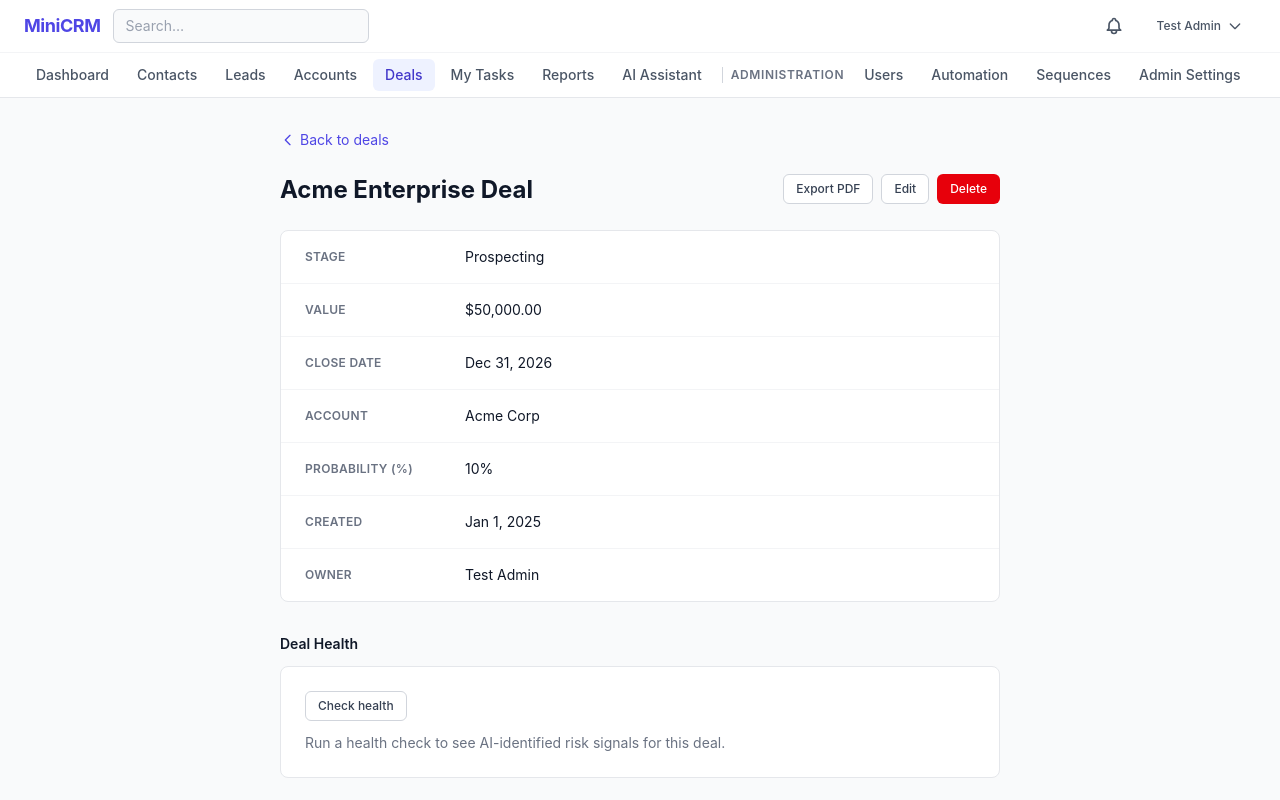
DealDetailPage › shows the edit form when Edit is clicked
The image size is (1280, 800).
What coordinates should you click on to do the following:
click the button with test id "edit-deal-button"
I would click on:
 (905, 189)
Its box is [881, 174, 929, 204].
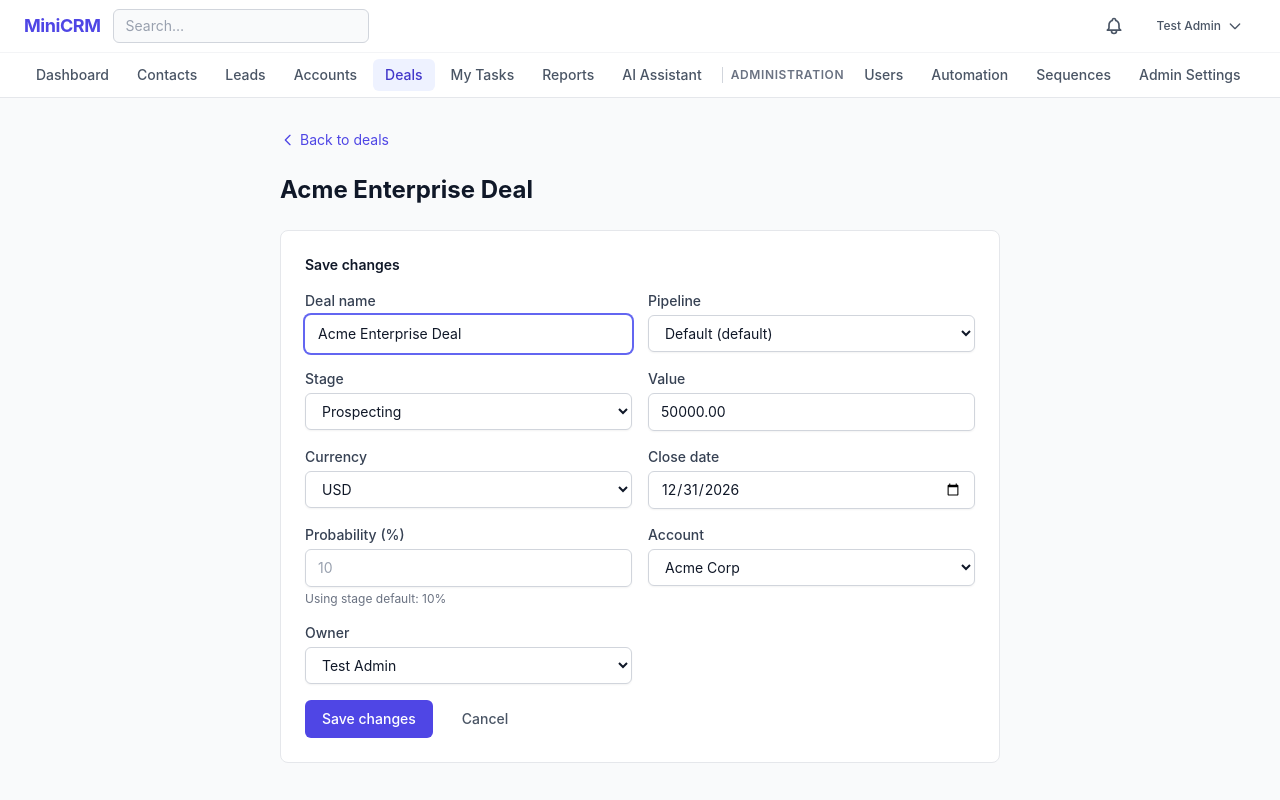
expect the form with test id "deal-form" is shown: met, box [305, 291, 975, 738]
